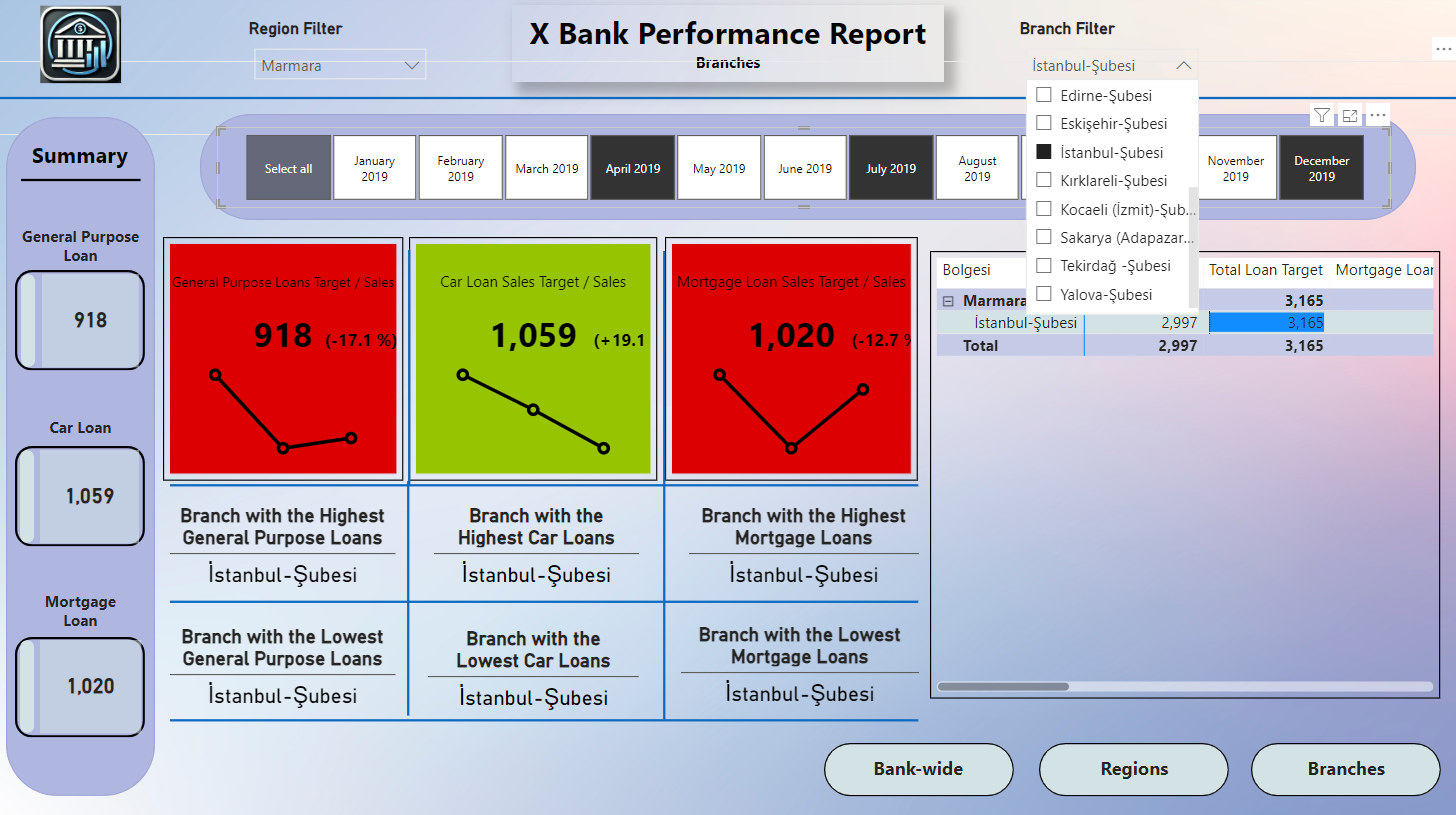

The page's visual inventory and layout, read from the dashboard file:
{"tool":"powerbi","page":{"name":"Branches","canvas":[1280,720],"ordinal":2},"visuals":[{"type":"textbox","box":[450.4,8.8,379.3,68.5],"z":0},{"type":"shape","box":[0,58,1280.2,65],"z":1000},{"type":"shape","box":[6.1,107.1,130.8,596.2],"z":2000},{"type":"textbox","box":[14.2,123.3,114.2,39.2],"z":3000},{"type":"shape","box":[19.3,147.5,105.4,29.9],"z":4000},{"type":"shape","box":[14.2,241.7,114.2,88.3],"z":5000},{"type":"shape","box":[14.2,396.2,114.2,88.3],"z":6000},{"type":"shape","box":[14.2,563.3,114.2,88.3],"z":7000},{"type":"textbox","box":[7.5,197.5,127.5,49.2],"z":8000},{"type":"shape","box":[19.2,245,12.5,81.7],"z":9000},{"type":"shape","box":[18.3,399.5,12.5,81.7],"z":10000},{"type":"shape","box":[18.3,566.7,12.5,81.7],"z":11000},{"type":"textbox","box":[30,365.4,83.3,30.8],"z":12000},{"type":"image","box":[20,4.2,102.5,78.3],"z":13000},{"type":"textbox","box":[20,518.3,102.5,45],"z":14000},{"type":"shape","box":[1099.2,656.7,166.7,46.7],"z":15000},{"type":"shape","box":[913.3,656.7,166.7,46.7],"z":16000},{"type":"shape","box":[724.2,656.7,166.7,46.7],"z":17000},{"type":"textbox","box":[745.8,663.3,123.3,33.3],"z":18000},{"type":"textbox","box":[935,663.3,123.3,33.3],"z":19000},{"type":"textbox","box":[1120.8,663.3,123.3,33.3],"z":20000},{"type":"shape","box":[176.5,104.5,1067.7,93.1],"z":21000},{"type":"slicer","fields":{"Values":["Loans.Ay"]},"box":[191.4,115.9,1030.8,71.1],"z":22000},{"type":"card","fields":{"Values":["Measurements.General Purpose Loan Sales"]},"box":[37.8,245,85.2,81.7],"z":23000},{"type":"card","fields":{"Values":["Measurements.Car Loan Sales"]},"box":[36,399.5,86.9,81.7],"z":24000},{"type":"card","fields":{"Values":["Measurements.Mortgage Loan Sales"]},"box":[36,566.3,88.7,81.7],"z":25000},{"type":"slicer","title":"Region Filter","fields":{"Values":["Branches.Bolgesi"]},"box":[214,21.1,171.1,56.1],"z":26000},{"type":"KPIStatusWithHistory1446562283967","title":"Car Loan Sales","fields":{"Values":["Measurements.Car Loan Sales"],"Targets":["Measurements.Car Loan Total Target"],"Category":["Loans.Ay"]},"box":[360,212.7,218.2,213.6],"z":27000},{"type":"KPIStatusWithHistory1446562283967","title":"General Purpose Loan Sales","fields":{"Values":["Measurements.General Purpose Loan Sales"],"Targets":["Measurements.General Purpose Loan Total Target"],"Category":["Loans.Ay"]},"box":[143.6,212.7,210.9,213.6],"z":28000},{"type":"KPIStatusWithHistory1446562283967","title":"Mortgage Loan Sales ","fields":{"Values":["Measurements.Mortgage Loan Sales"],"Targets":["Measurements.Mortgage Loan Total Target"],"Category":["Loans.Ay"]},"box":[584.5,212.7,221.8,213.6],"z":29000},{"type":"card","title":"Branch with the Highest General Purpose Loans","fields":{"Values":["Min(Branches.Sube Adı)"]},"box":[150.4,446.5,197.7,80.2],"z":30000},{"type":"card","title":"Branch with the Highest Mortgage Loans","fields":{"Values":["Min(Branches.Sube Adı)"]},"box":[605.6,446.5,201.5,79.3],"z":31000},{"type":"card","title":"Branch with the Highest Car Loans","fields":{"Values":["Min(Branches.Sube Adı)"]},"box":[382.3,446.5,179.8,79.3],"z":32000},{"type":"card","title":"Branch with the Lowest General Purpose Loans","fields":{"Values":["Min(Branches.Sube Adı)"]},"box":[150.4,552.9,197.7,80.2],"z":33000},{"type":"card","title":"Branch with the Lowest Mortgage Loans","fields":{"Values":["Min(Branches.Sube Adı)"]},"box":[598.6,551.1,208.5,79.3],"z":34000},{"type":"card","title":"Branch with the Lowest Car Loans","fields":{"Values":["Min(Branches.Sube Adı)"]},"box":[376.8,554.7,185.2,79.3],"z":35000},{"type":"shape","box":[150.1,423.6,657.2,14.6],"z":36000},{"type":"shape","box":[150.1,630.8,657.2,12.8],"z":37000},{"type":"shape","box":[150.1,525.5,657.2,15.4],"z":38000},{"type":"shape","box":[578.2,224.5,12.7,411.8],"z":39000},{"type":"shape","box":[354.3,426.7,10.9,206.4],"z":40000},{"type":"shape","box":[354.6,224.2,10.9,207.5],"z":41000},{"type":"pivotTable","fields":{"Rows":["Branches.Bolgesi","Branches.Sube Adı"],"Values":["Measurements.Total Loan Sales","Measurements.Total Loan Target","Measurements.Mortgage Loan Sales","Measurements.Mortgage Loan Total Target","Measurements.General Purpose Loan Sales","Measurements.General Purpose Loan Total Target","Measurements.Car Loan Sales","Measurements.Car Loan Total Target"]},"box":[817.3,224.5,448.2,392.7],"z":42000},{"type":"slicer","title":"Branch Filter","fields":{"Values":["Branches.Sube Adı"]},"box":[890.9,20.9,171.8,56.4],"z":43000}]}

Visuals, with their boxes in screenshot pixels (x1, y1, x2, y2), scaled from the page's 1280x720 canvas onto the 1456x815 screenshot:
textbox: (left=512, top=10, right=944, bottom=87)
shape: (left=0, top=66, right=1455, bottom=139)
shape: (left=7, top=121, right=156, bottom=796)
textbox: (left=16, top=140, right=146, bottom=184)
shape: (left=22, top=167, right=142, bottom=201)
shape: (left=16, top=274, right=146, bottom=374)
shape: (left=16, top=448, right=146, bottom=548)
shape: (left=16, top=638, right=146, bottom=738)
textbox: (left=9, top=224, right=154, bottom=279)
shape: (left=22, top=277, right=36, bottom=370)
shape: (left=21, top=452, right=35, bottom=545)
shape: (left=21, top=641, right=35, bottom=734)
textbox: (left=34, top=414, right=129, bottom=448)
image: (left=23, top=5, right=139, bottom=93)
textbox: (left=23, top=587, right=139, bottom=638)
shape: (left=1250, top=743, right=1440, bottom=796)
shape: (left=1039, top=743, right=1228, bottom=796)
shape: (left=824, top=743, right=1013, bottom=796)
textbox: (left=848, top=751, right=989, bottom=789)
textbox: (left=1064, top=751, right=1204, bottom=789)
textbox: (left=1275, top=751, right=1415, bottom=789)
shape: (left=201, top=118, right=1415, bottom=224)
slicer - Loans.Ay: (left=218, top=131, right=1390, bottom=212)
card - Measurements.General Purpose Loan Sales: (left=43, top=277, right=140, bottom=370)
card - Measurements.Car Loan Sales: (left=41, top=452, right=140, bottom=545)
card - Measurements.Mortgage Loan Sales: (left=41, top=641, right=142, bottom=734)
"Region Filter" slicer: (left=243, top=24, right=438, bottom=87)
"Car Loan Sales" KPIStatusWithHistory1446562283967: (left=410, top=241, right=658, bottom=483)
"General Purpose Loan Sales" KPIStatusWithHistory1446562283967: (left=163, top=241, right=403, bottom=483)
"Mortgage Loan Sales " KPIStatusWithHistory1446562283967: (left=665, top=241, right=917, bottom=483)
"Branch with the Highest General Purpose Loans" card: (left=171, top=505, right=396, bottom=596)
"Branch with the Highest Mortgage Loans" card: (left=689, top=505, right=918, bottom=595)
"Branch with the Highest Car Loans" card: (left=435, top=505, right=639, bottom=595)
"Branch with the Lowest General Purpose Loans" card: (left=171, top=626, right=396, bottom=717)
"Branch with the Lowest Mortgage Loans" card: (left=681, top=624, right=918, bottom=714)
"Branch with the Lowest Car Loans" card: (left=429, top=628, right=639, bottom=718)
shape: (left=171, top=479, right=918, bottom=496)
shape: (left=171, top=714, right=918, bottom=729)
shape: (left=171, top=595, right=918, bottom=612)
shape: (left=658, top=254, right=672, bottom=720)
shape: (left=403, top=483, right=415, bottom=717)
shape: (left=403, top=254, right=416, bottom=489)
pivotTable - Branches.Bolgesi x Branches.Sube Adı: (left=930, top=254, right=1440, bottom=699)
"Branch Filter" slicer: (left=1013, top=24, right=1209, bottom=87)
